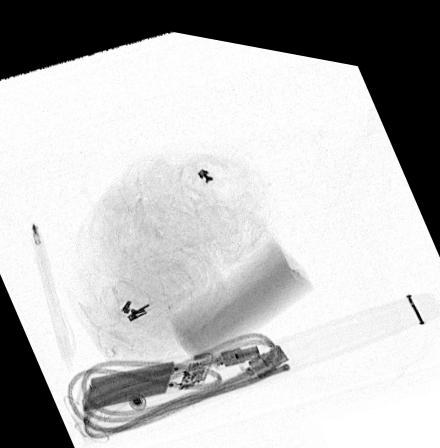Powerbank: (77, 343, 215, 412)
